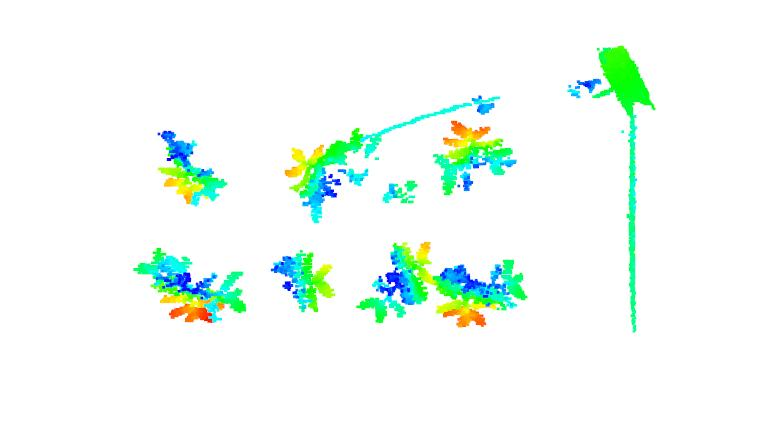chickpea: (281, 126, 385, 223), (128, 245, 247, 325), (353, 239, 441, 323), (429, 118, 519, 197), (433, 257, 530, 328), (153, 130, 230, 209), (266, 247, 340, 316), (378, 178, 423, 207)
